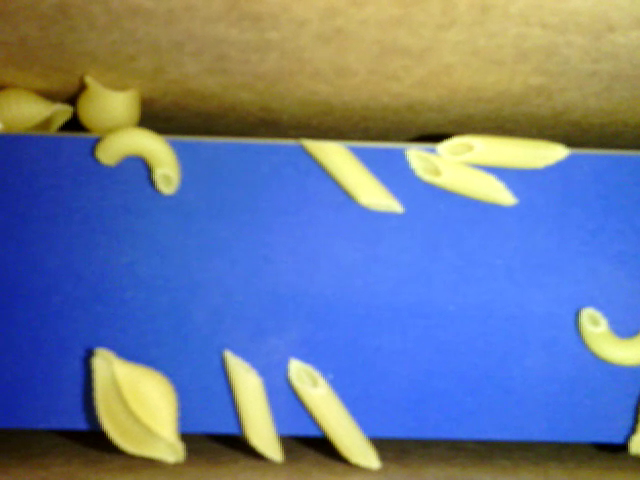elbow: (94, 122, 180, 199), (577, 303, 639, 367)
penne: (283, 355, 383, 472), (295, 139, 406, 217), (220, 348, 286, 461), (405, 143, 519, 208), (429, 134, 571, 174)
shell: (80, 347, 186, 464), (74, 73, 138, 134), (1, 86, 73, 134)
